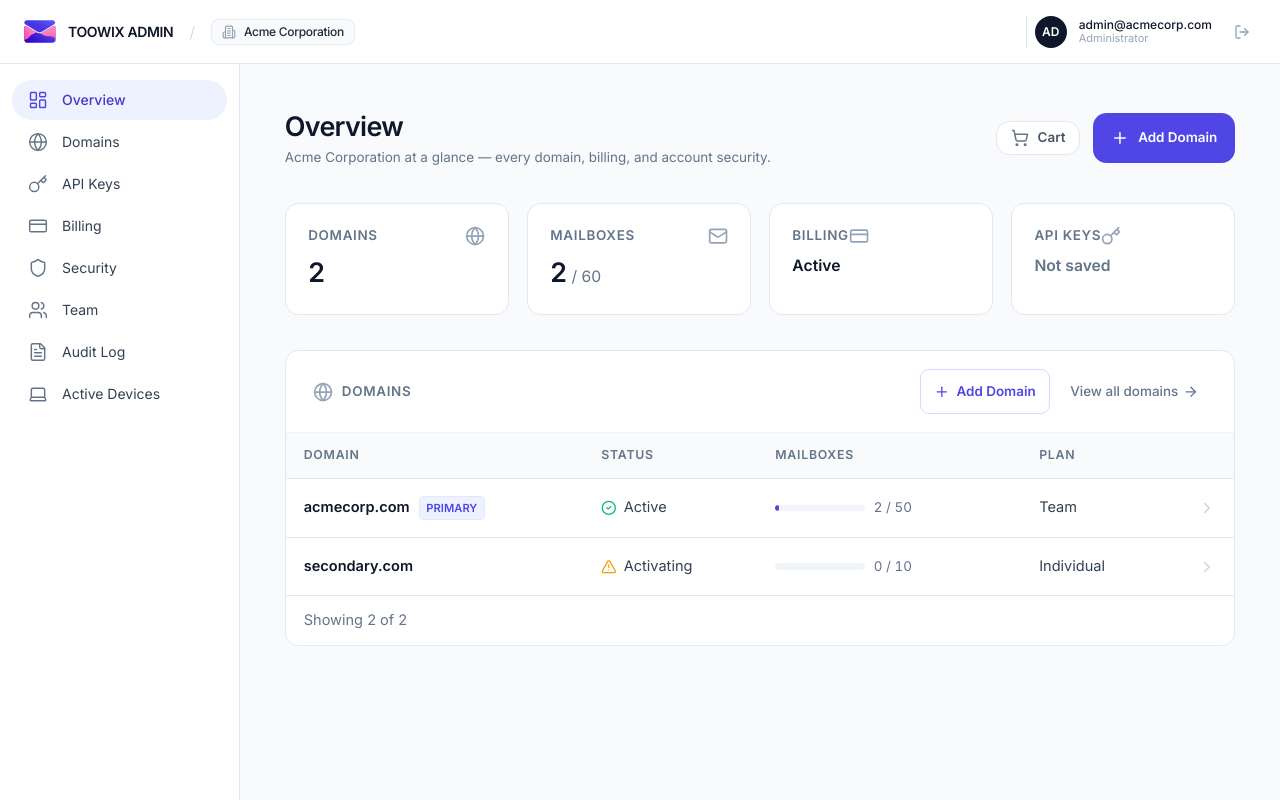
it: TenantHomeView Component › shows the combined billing summary across every domain on the Billing tab
Click the button "Billing". click: {"x": 120, "y": 226}
box: [12,206,227,246]
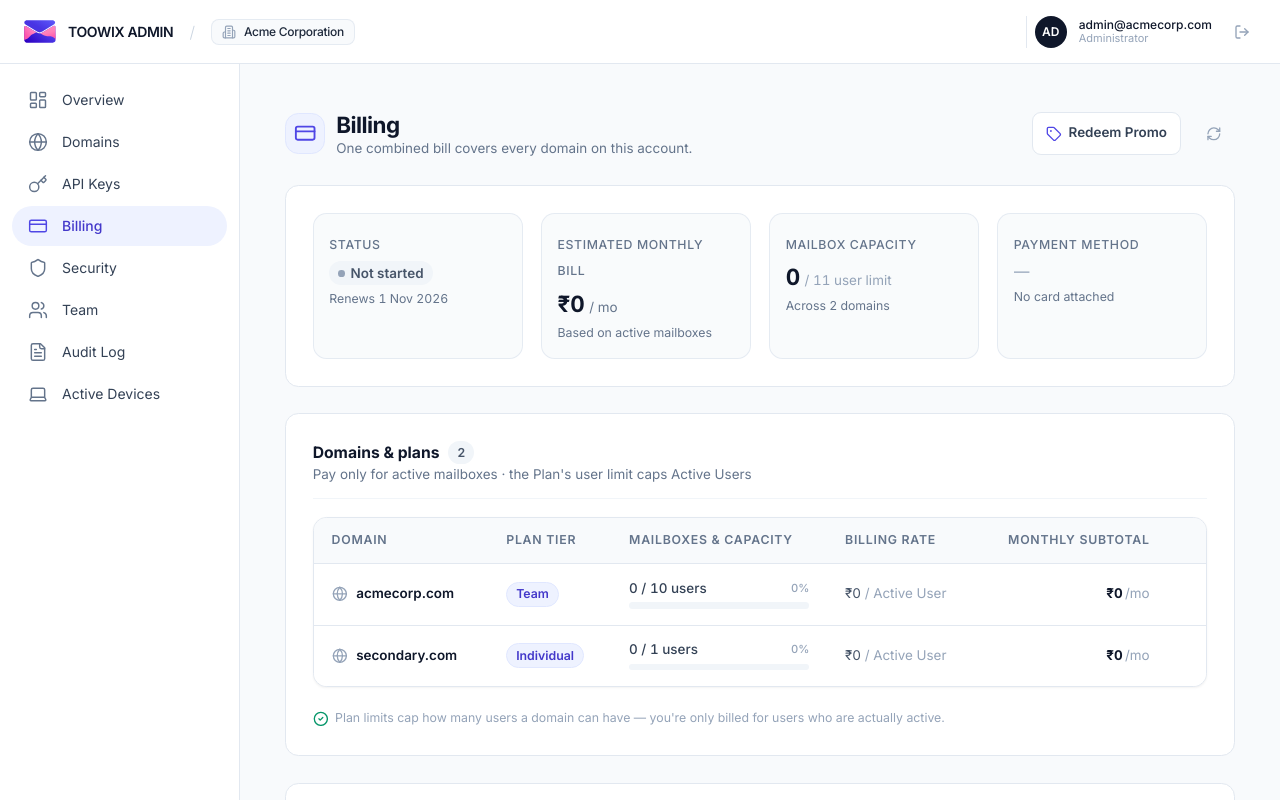
Expected: the text "acmecorp.com" is shown, [356,585,454,603]
Now the text "One combined bill covers every domain on this account." is shown, box [336,140,692,158]
